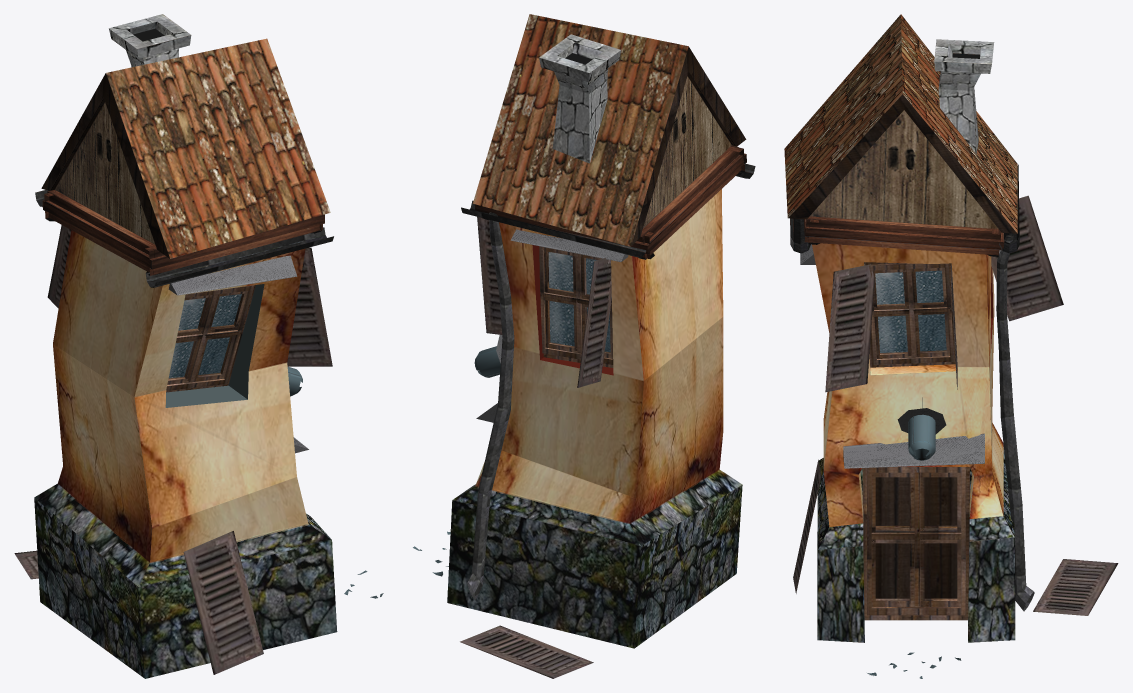
File: HutBuilding3.fbx
3 views of the same model, side by side, from view 1: azimuth 30°, elevation 25°; view 2: azimuth 150°, elevation 25°; view 3: azimuth 270°, elevation 25° (orthographic). The views are drawn at different scales.
Parts seen in each view (by area): view 1: Building3; view 2: Building3; view 3: Building3.
Boxes of the visible parts, x1,y1,x2,y2 form: Building3: (14, 14, 383, 678); Building3: (413, 14, 755, 678); Building3: (784, 14, 1118, 678).
Size of the model in its own units: 2888 by 2665 by 5186.
